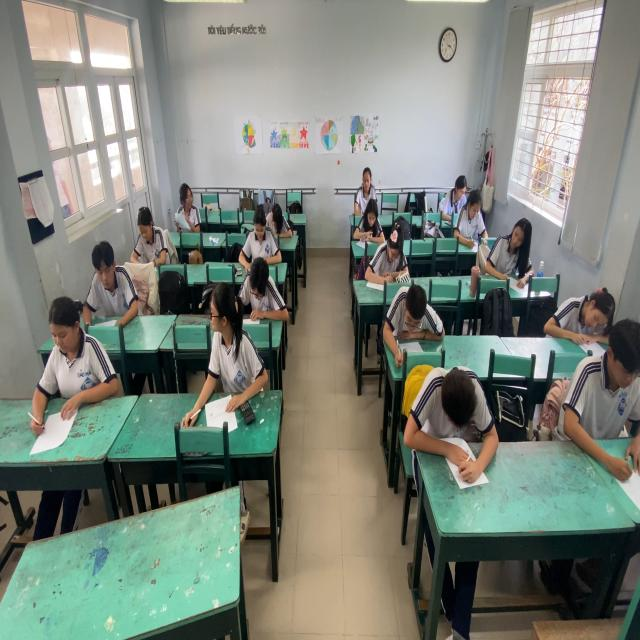cheating: (198, 271, 253, 384), (171, 181, 203, 226), (267, 201, 292, 246)
not_cheating: (28, 291, 115, 409), (418, 340, 494, 443), (571, 323, 640, 423), (82, 240, 138, 322), (543, 282, 618, 342), (494, 212, 543, 280), (395, 278, 442, 346), (127, 204, 167, 274), (346, 195, 397, 243), (241, 202, 278, 266), (245, 261, 286, 315), (448, 188, 488, 236), (378, 219, 400, 274), (444, 177, 471, 219), (351, 167, 377, 204)
